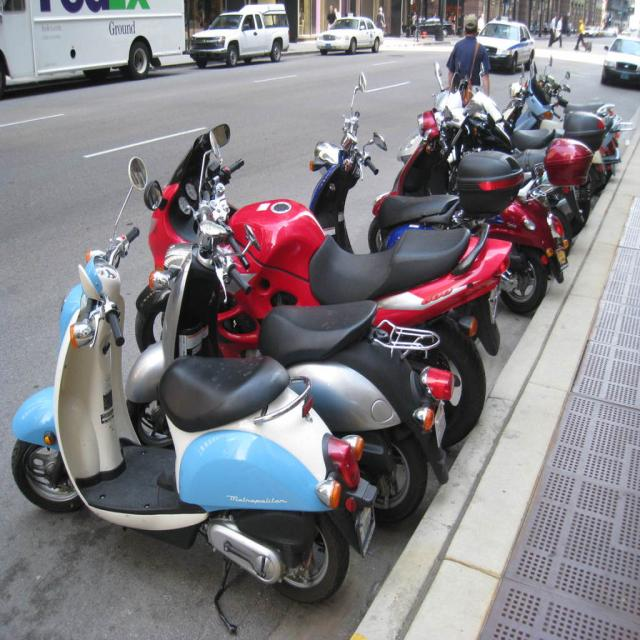car: (186, 0, 290, 66), (315, 13, 384, 51)
